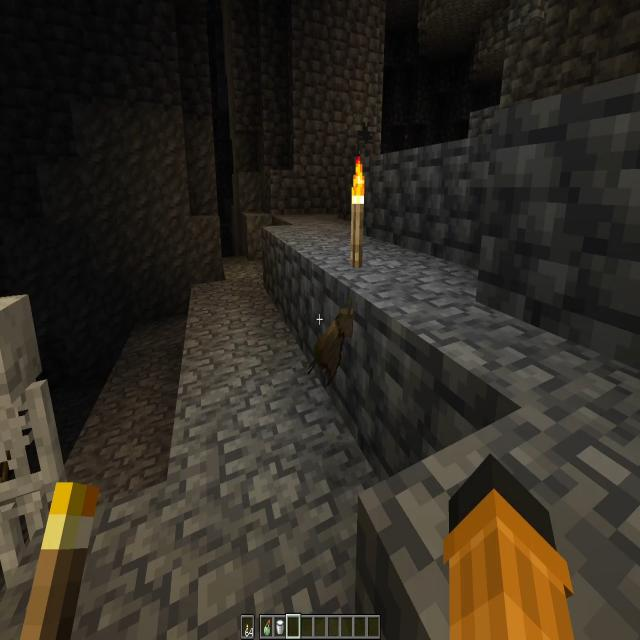Bat: (311, 309, 356, 375)
Skeleton: (0, 295, 52, 564)
